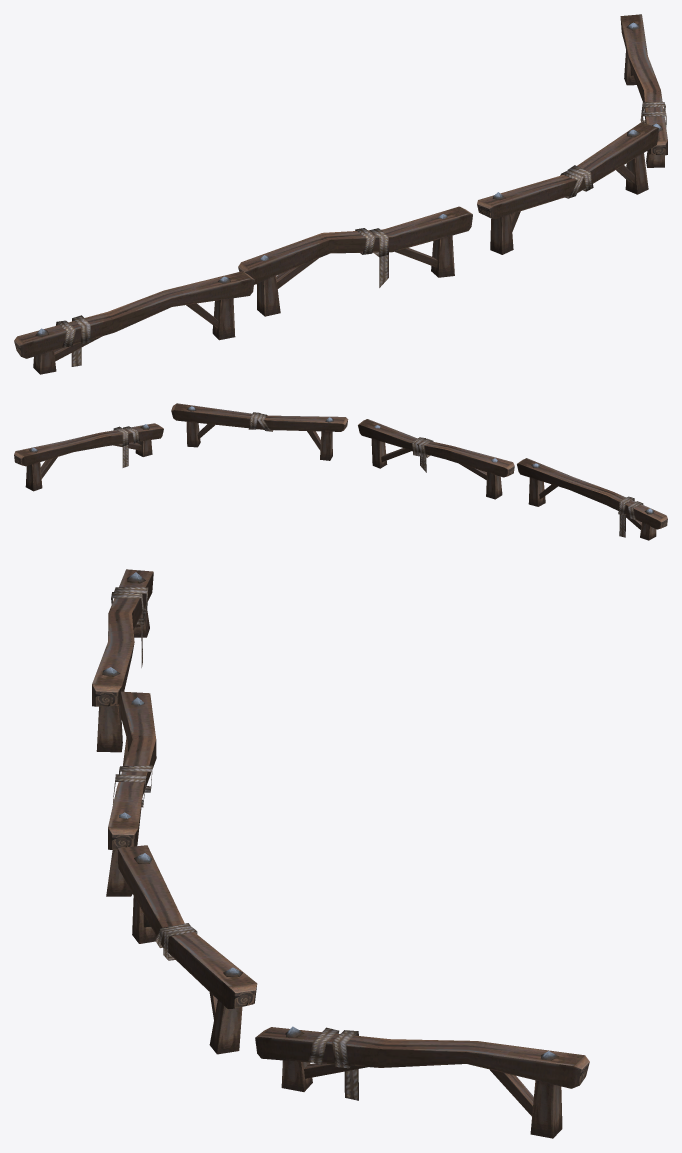
The model's file is object_wooden_fences03.fbx.
The picture shows the model from 3 angles, top to bottom: view 1: azimuth 30°, elevation 25°; view 2: azimuth 150°, elevation 25°; view 3: azimuth 270°, elevation 25°; orthographic projection. The views are drawn at different scales.
Visible parts, largest first — view 1: object_wooden_fences03-0; view 2: object_wooden_fences03-0; view 3: object_wooden_fences03-0.
Boxes of the visible parts, box(x1,y1,x2,y2) form: object_wooden_fences03-0: box(14, 14, 667, 374); object_wooden_fences03-0: box(14, 403, 667, 540); object_wooden_fences03-0: box(92, 569, 589, 1138).
Bounding box in the file's own units: 21.7 × 1.89 × 8.64.
